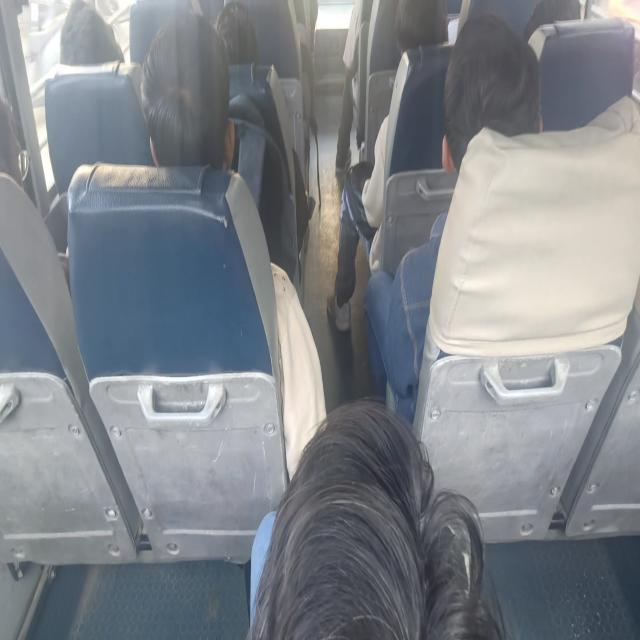person: (255, 403, 488, 640), (440, 26, 541, 193), (146, 32, 237, 196), (208, 0, 262, 86), (62, 3, 125, 68), (0, 105, 38, 194), (395, 0, 446, 59), (529, 0, 580, 39)
